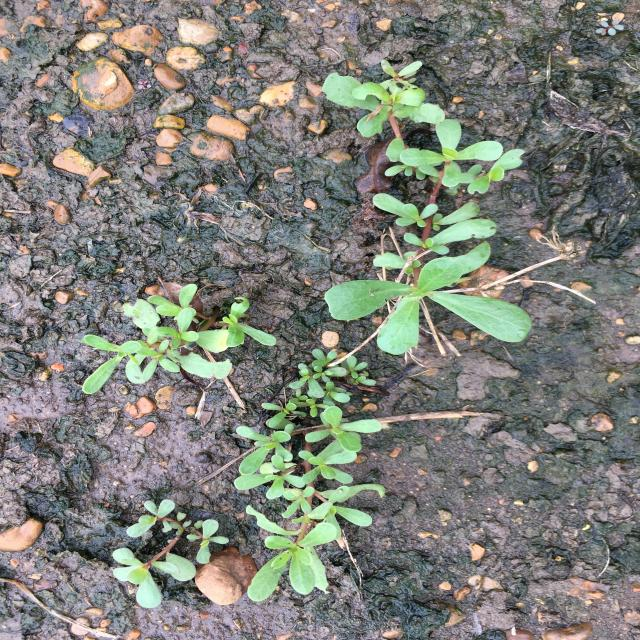Purslane: (322, 59, 533, 355), (234, 348, 385, 602), (72, 284, 277, 394), (113, 499, 230, 608)
